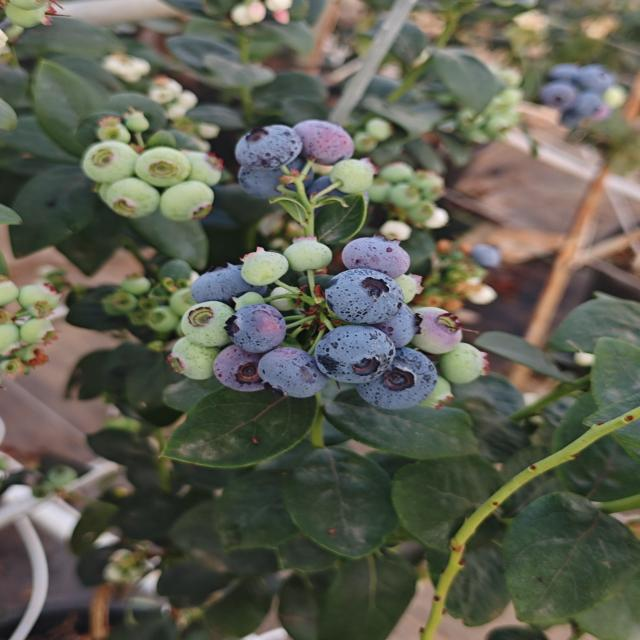ripe: (361, 341, 447, 412), (320, 323, 400, 388), (320, 259, 405, 316), (254, 343, 322, 401), (224, 121, 312, 165), (186, 264, 271, 309), (235, 160, 320, 202), (340, 233, 414, 281), (296, 112, 357, 167), (236, 299, 292, 356), (210, 343, 270, 396), (366, 299, 426, 351), (306, 173, 366, 207), (562, 94, 617, 122), (568, 61, 615, 93), (469, 239, 510, 271), (534, 78, 578, 105), (550, 60, 592, 86)
